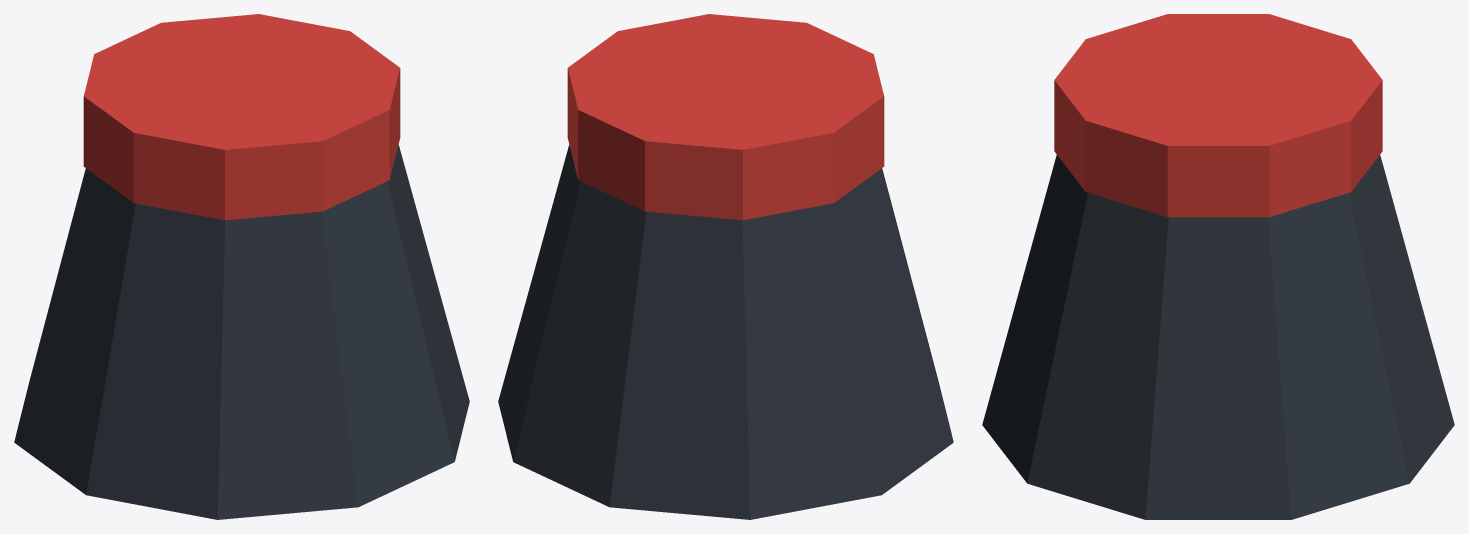
The model's file is robot_thruster_nozzle.glb.
3 views of the same model, side by side, from view 1: azimuth 30°, elevation 25°; view 2: azimuth 150°, elevation 25°; view 3: azimuth 270°, elevation 25° (orthographic).
Parts seen in each view (by area): view 1: robot_thruster_nozzle_steelDark, robot_thruster_nozzle_red; view 2: robot_thruster_nozzle_steelDark, robot_thruster_nozzle_red; view 3: robot_thruster_nozzle_steelDark, robot_thruster_nozzle_red.
Part boxes in pixels (x1,y1,x2,y2): robot_thruster_nozzle_steelDark: (14,145,469,519); robot_thruster_nozzle_red: (83,14,400,220); robot_thruster_nozzle_steelDark: (498,145,953,519); robot_thruster_nozzle_red: (567,14,884,220); robot_thruster_nozzle_steelDark: (982,155,1454,519); robot_thruster_nozzle_red: (1054,14,1382,217).
Size of the model in its own units: 3.42 by 2.9 by 3.6.
